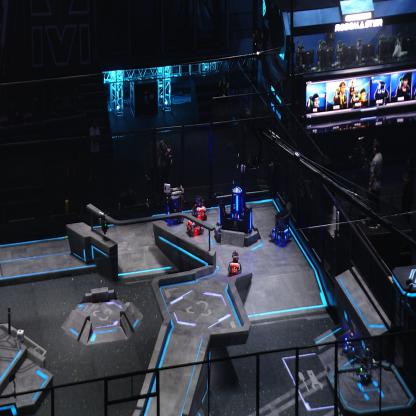car: (267, 208, 291, 246), (164, 184, 185, 224), (186, 204, 204, 236), (191, 193, 208, 221), (226, 249, 242, 276), (342, 332, 358, 352)
